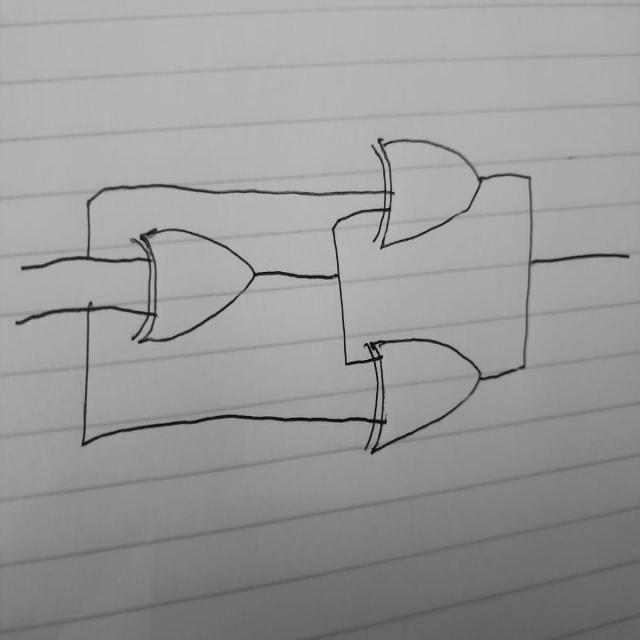XOR: (123, 212, 260, 366), (364, 322, 504, 454), (361, 117, 499, 246)
